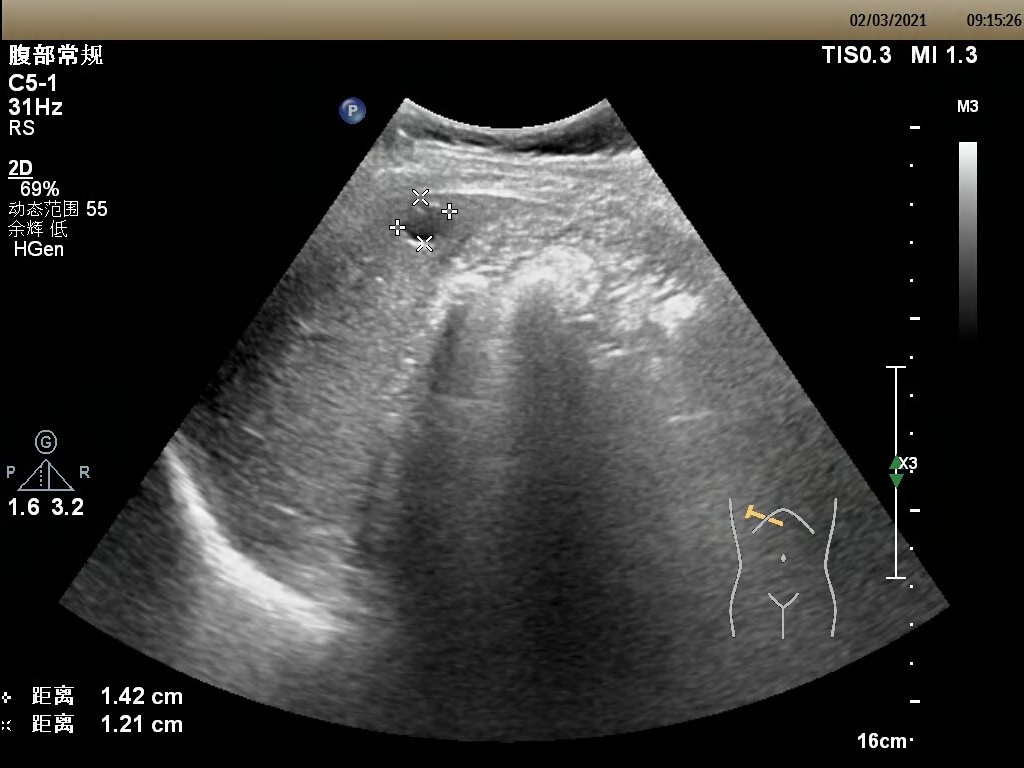肌瘤: (406, 203, 442, 238)
